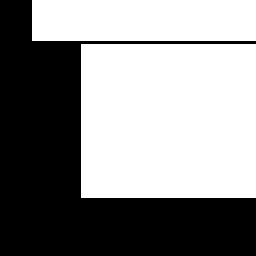rumex: (81, 44, 256, 197), (32, 0, 256, 40)
